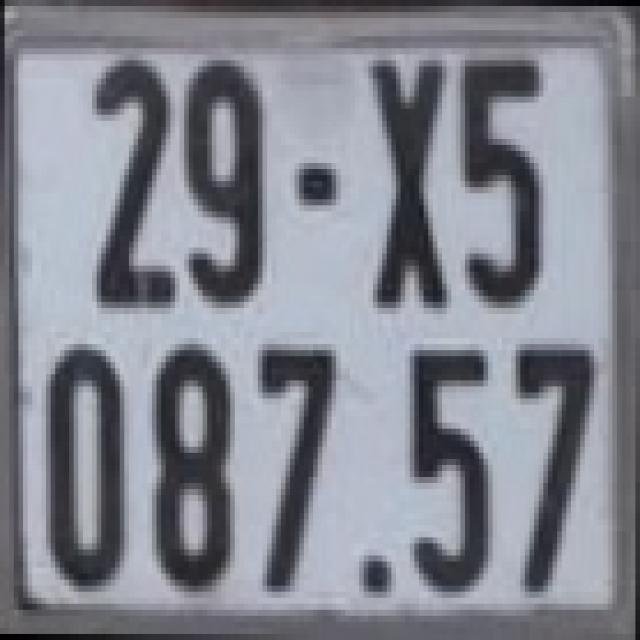0: (46, 344, 129, 592)
2: (88, 54, 180, 308)
5: (405, 338, 493, 592), (460, 54, 548, 302)
7: (511, 344, 599, 592), (253, 338, 336, 592)
8: (152, 338, 239, 592)
9: (180, 54, 267, 308)
X: (368, 54, 447, 308)
